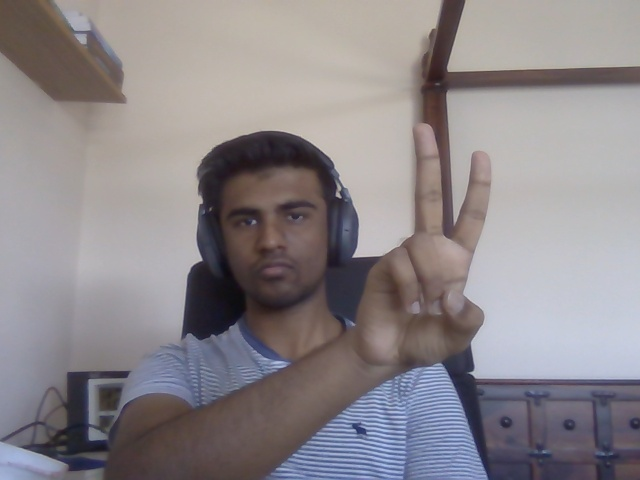Peace: (355, 123, 491, 367)
